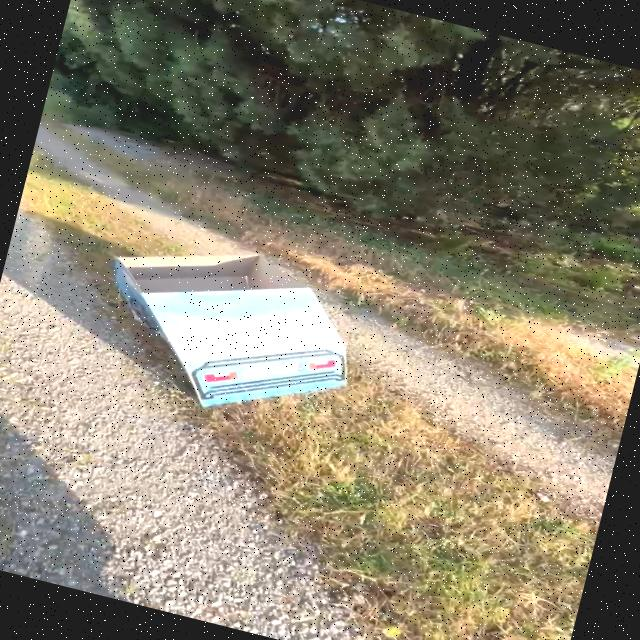blue_car: (46, 170, 407, 468)
